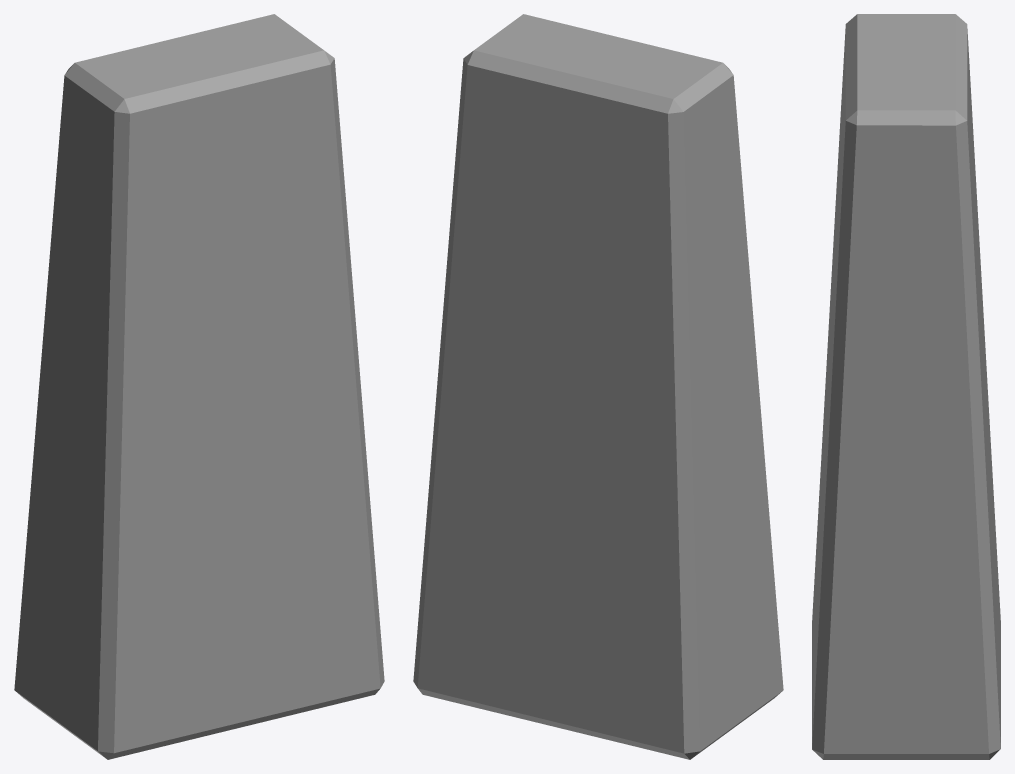
File: Isl_5_Stone_5.fbx
3 renders of one model, left to right at view 1: azimuth 30°, elevation 25°; view 2: azimuth 150°, elevation 25°; view 3: azimuth 270°, elevation 25°, orthographic.
Visible parts, largest first — view 1: Isl_5_Stone_5; view 2: Isl_5_Stone_5; view 3: Isl_5_Stone_5.
Boxes of the visible parts, bbox=[...] form: Isl_5_Stone_5: bbox=[14, 14, 384, 759]; Isl_5_Stone_5: bbox=[413, 14, 783, 759]; Isl_5_Stone_5: bbox=[812, 14, 1000, 759].
Size of the model in its own units: 126 by 72.71 by 269.
Materials: 1 (1 with a texture image).
